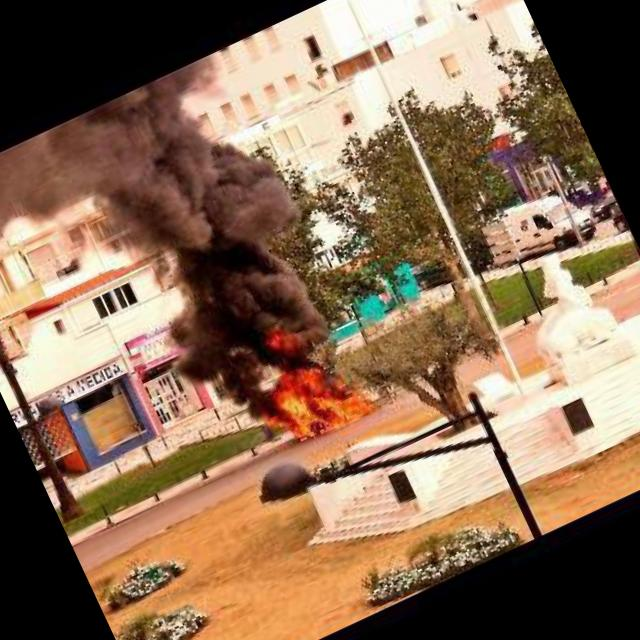fire: (234, 338, 380, 458), (254, 306, 320, 362)
smoke: (61, 39, 371, 407), (0, 121, 99, 258)
